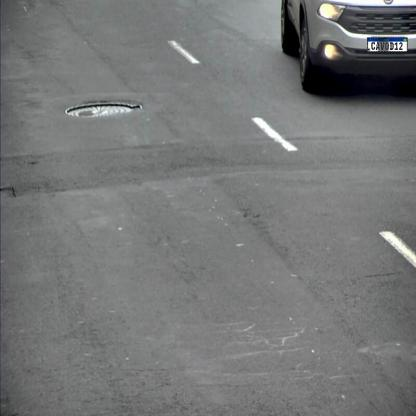PlacaM: (367, 37, 408, 52)
